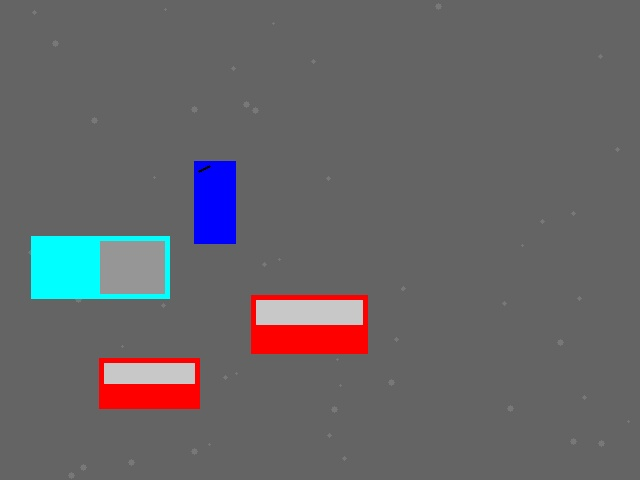car: (251, 295, 367, 353), (99, 358, 199, 408)
motorcycle: (194, 161, 235, 243)
truck: (31, 236, 169, 298)
